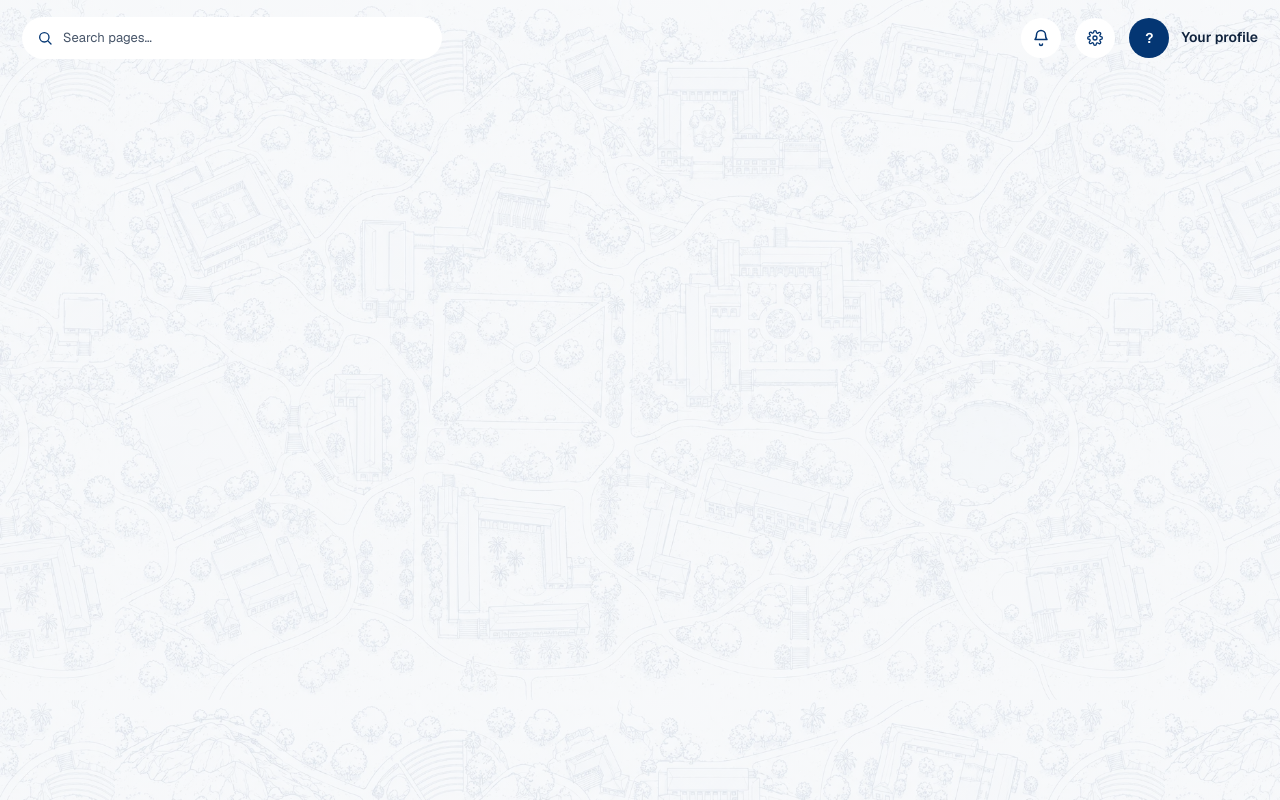
Test: shows an empty result and dismisses search with Escape
Expected: the button with aria-label "Open profile menu" is shown, [1129, 18, 1258, 58]
Type "missing page" into the field labelled "Search pages".
click(245, 38); type("missing page")  # box [63, 28, 427, 48]
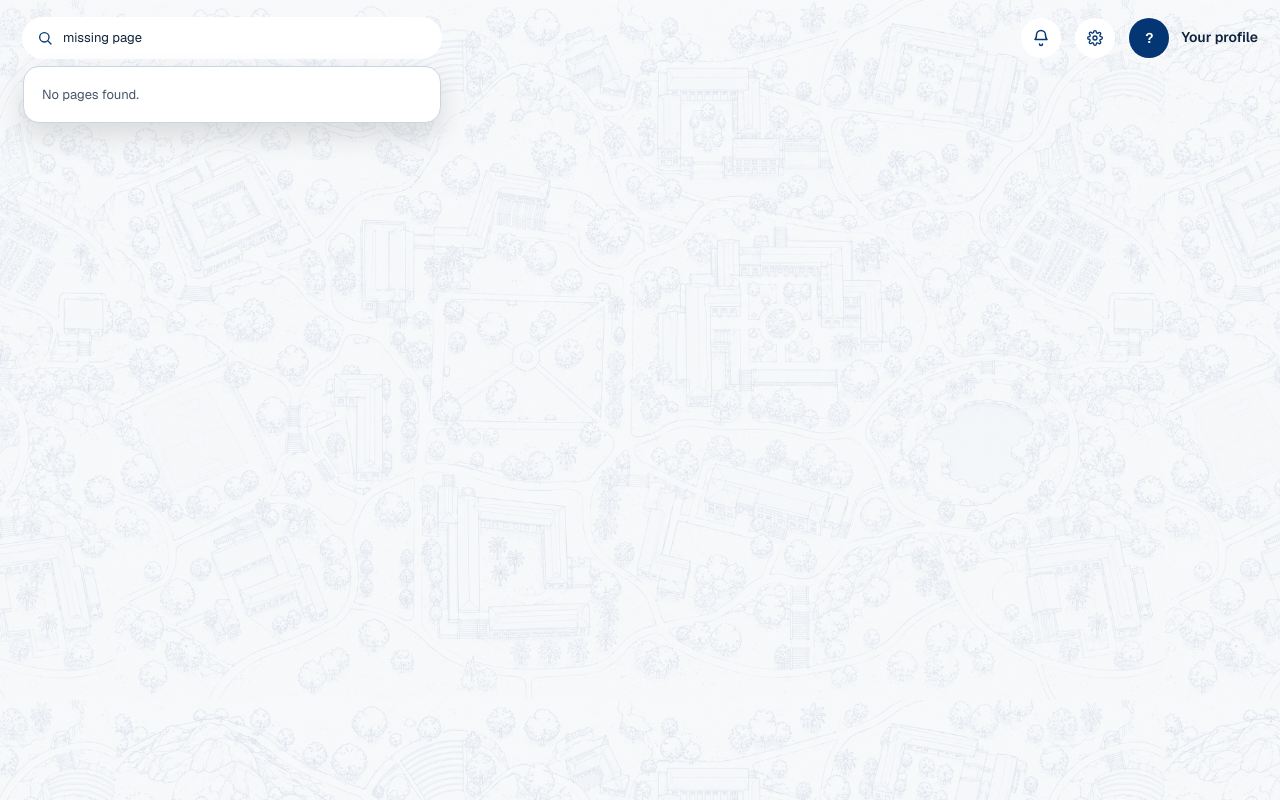
Now the text "No pages found." is shown, box [42, 86, 139, 103]
Press Escape in the field named "Search pages", box [63, 28, 427, 48]
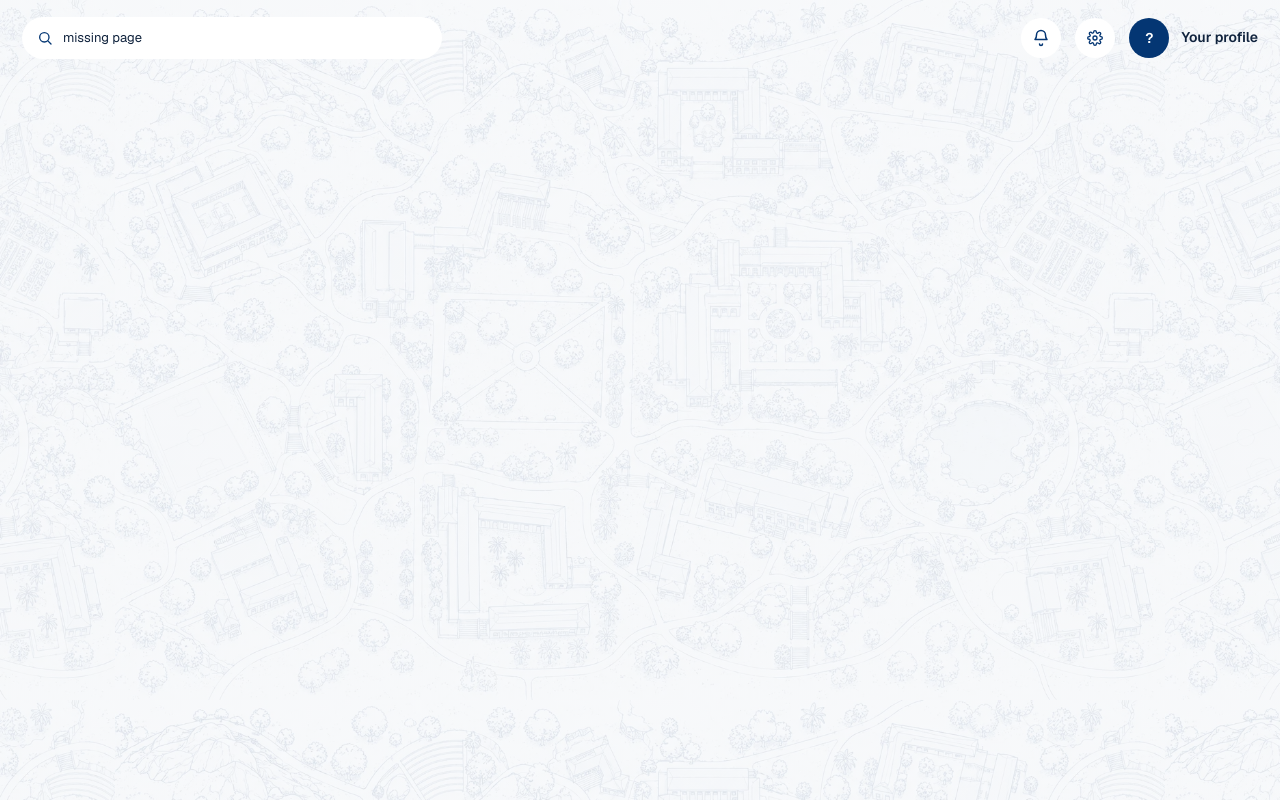
Now the text "No pages found." is gone
